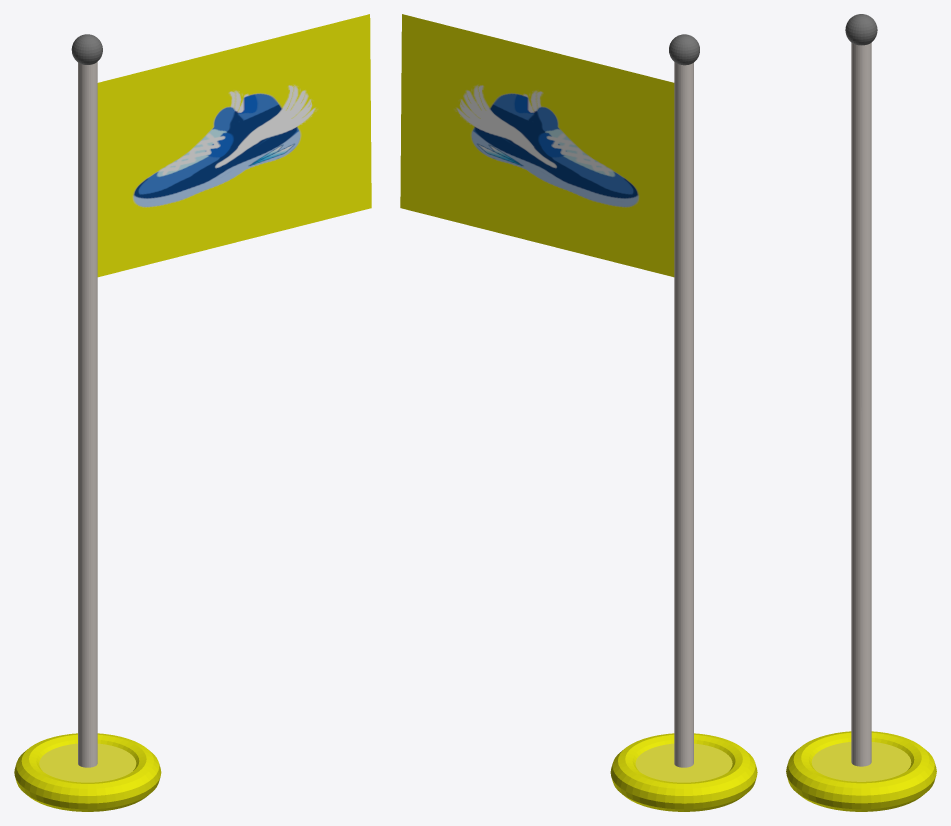
File: Flag.fbx
The picture shows the model from 3 angles, left to right: view 1: azimuth 30°, elevation 25°; view 2: azimuth 150°, elevation 25°; view 3: azimuth 270°, elevation 25°; orthographic projection. The views are drawn at different scales.
Parts seen in each view (by area): view 1: 平面, Cylinder, Torus, Cylinder.001, Sphere; view 2: 平面, Cylinder, Torus, Cylinder.001, Sphere; view 3: Cylinder, Torus, Cylinder.001, Sphere.
Boxes of the visible parts, <box> form: 平面: <box>97,14,371,277</box>; Cylinder: <box>78,62,97,767</box>; Torus: <box>14,733,161,811</box>; Cylinder.001: <box>39,743,136,782</box>; Sphere: <box>71,34,102,64</box>; 平面: <box>400,14,674,277</box>; Cylinder: <box>674,62,693,767</box>; Torus: <box>610,733,757,811</box>; Cylinder.001: <box>635,743,732,782</box>; Sphere: <box>669,34,699,65</box>; Cylinder: <box>851,43,871,766</box>; Torus: <box>786,731,936,811</box>; Cylinder.001: <box>811,742,911,781</box>; Sphere: <box>845,14,877,45</box>.
Size of the model in its own units: 205 by 422 by 75.
